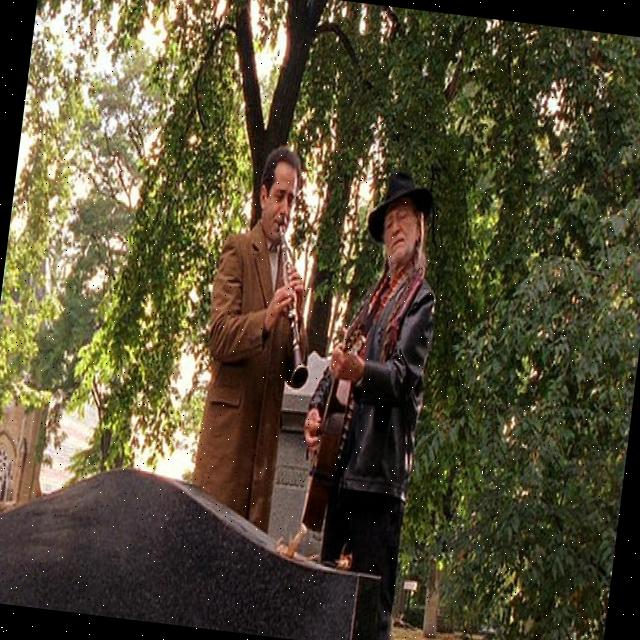clarinet: (256, 222, 327, 392)
guitar: (297, 294, 374, 530)
